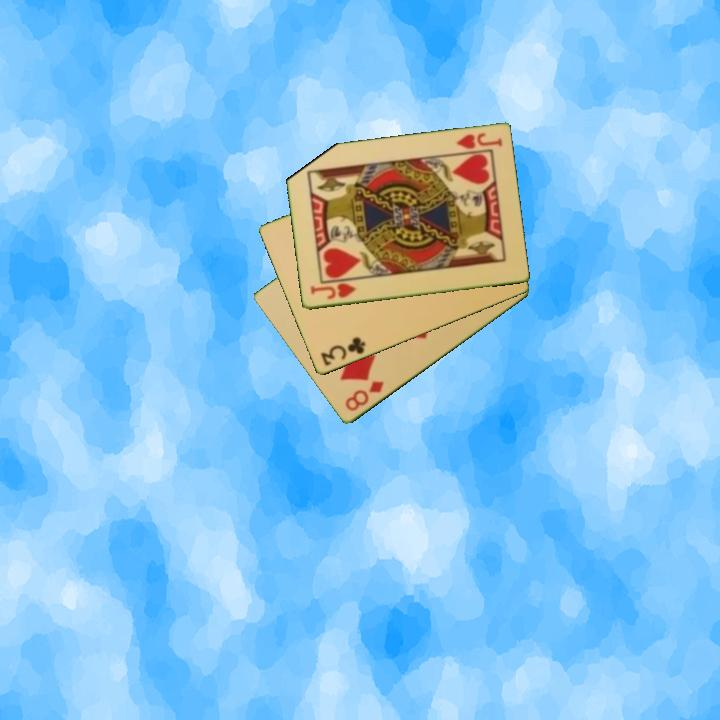3c: (317, 334, 368, 369)
8d: (341, 377, 387, 414)
Jh: (452, 129, 505, 152), (306, 280, 358, 302)
